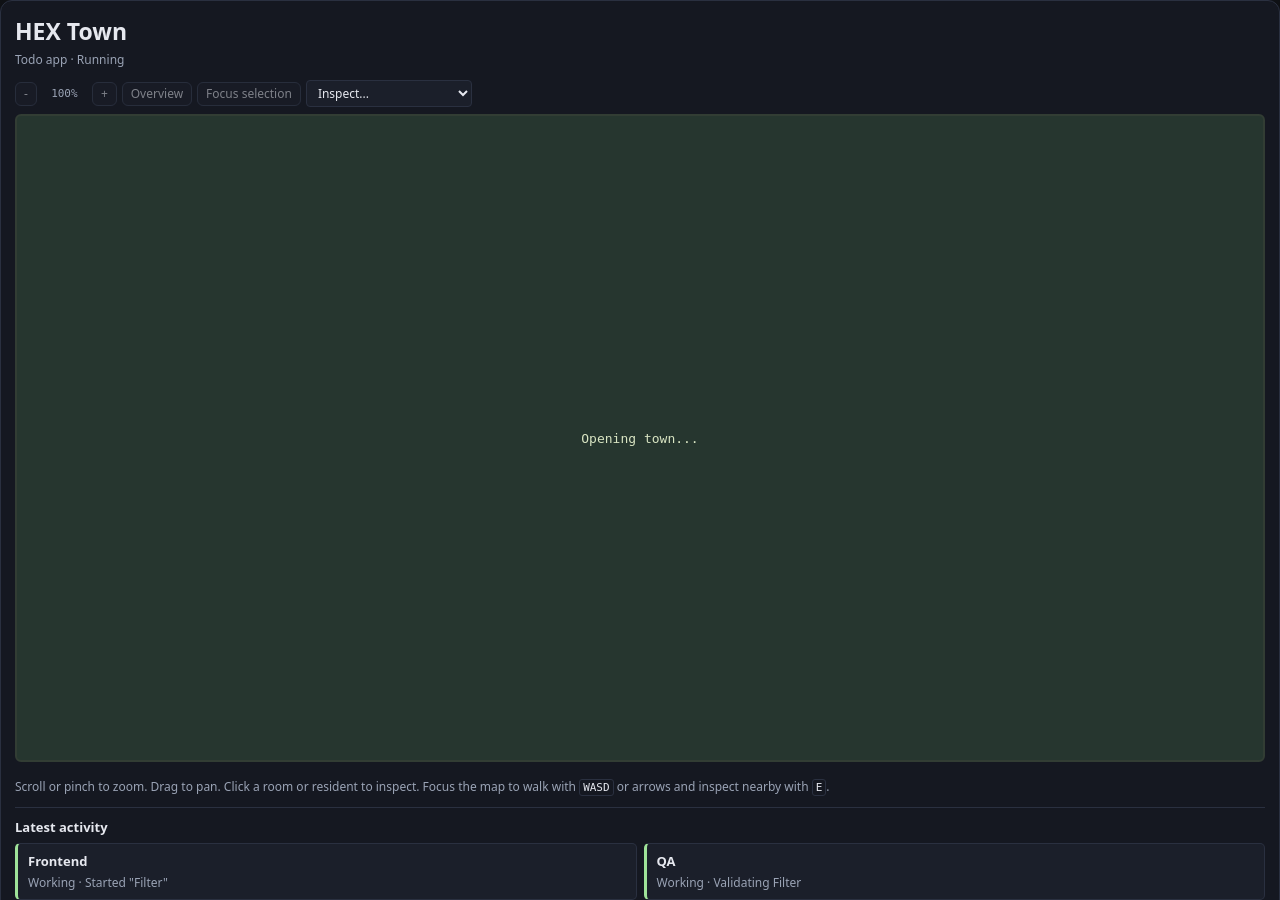
Test: Town › shows real agent activity and keeps overlapping sandbox checks on their station
Later steps or results of the test are not shown.
Expected: the text "Running test" is not shown
Select "Test Lab" in the dropdown named "Inspect a room or resident": (389, 94) [306,80,472,107]
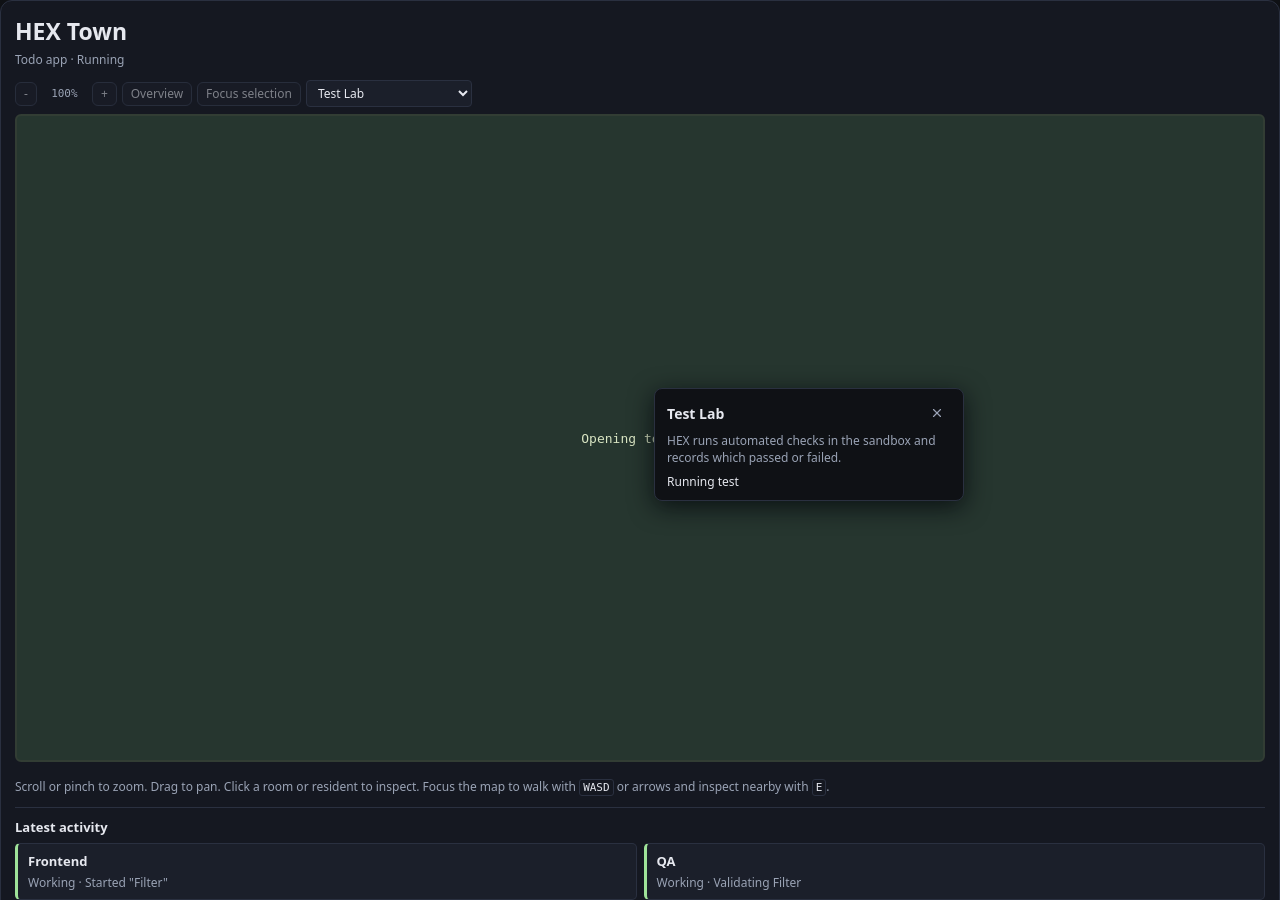
Now the text "automated checks in the sandbox" is shown, box [667,432,936,466]
Now the text "Running test" is shown, box [667,473,739,490]
Select "Review Office" in the dropdown named "Inspect a room or resident": (389, 94) [306,80,472,107]
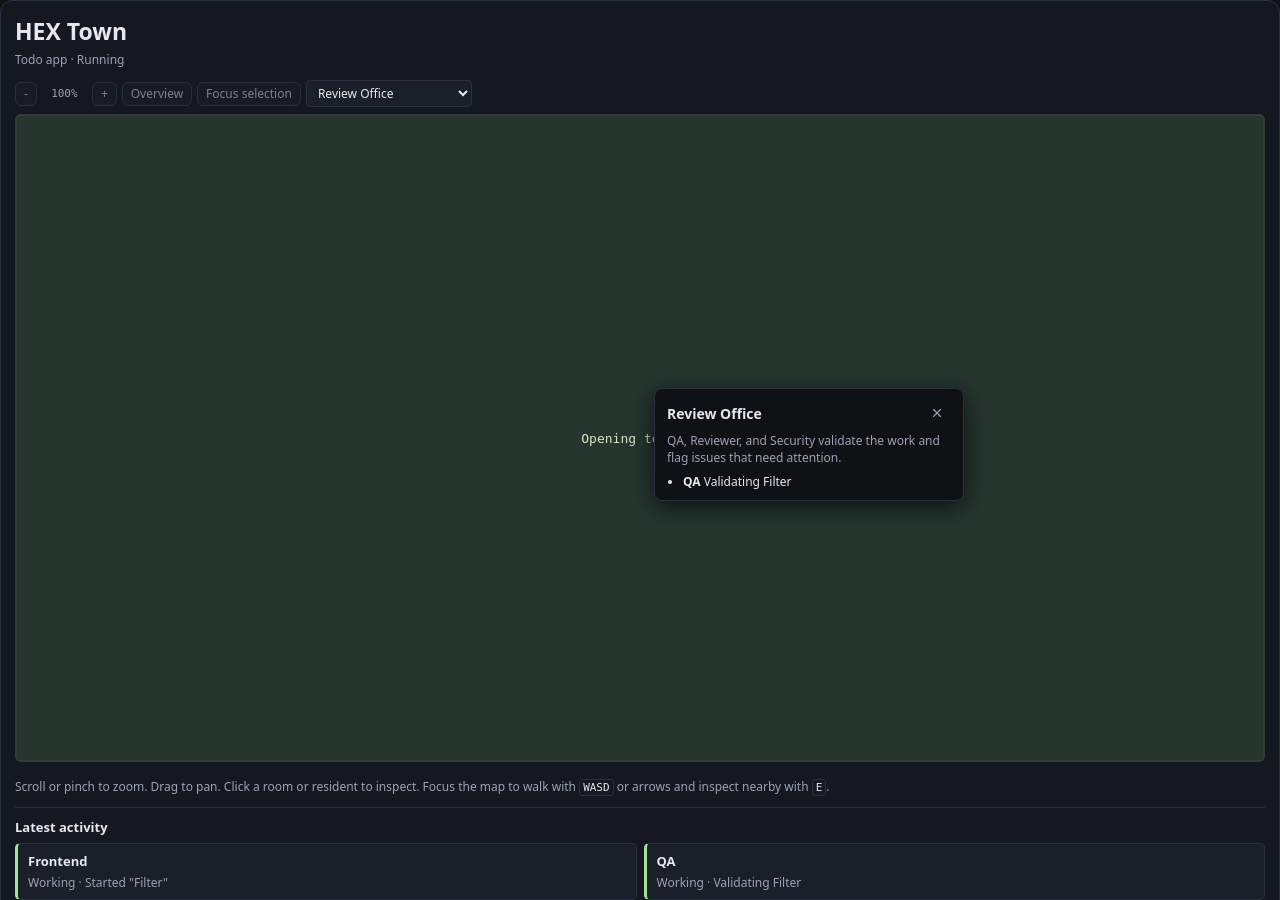
Now the list item "Validating Filter" is shown, box [704,473,792,490]
Now the text "Running test" is gone
Select "QA — Working" in the dropdown named "Inspect a room or resident": (389, 94) [306,80,472,107]
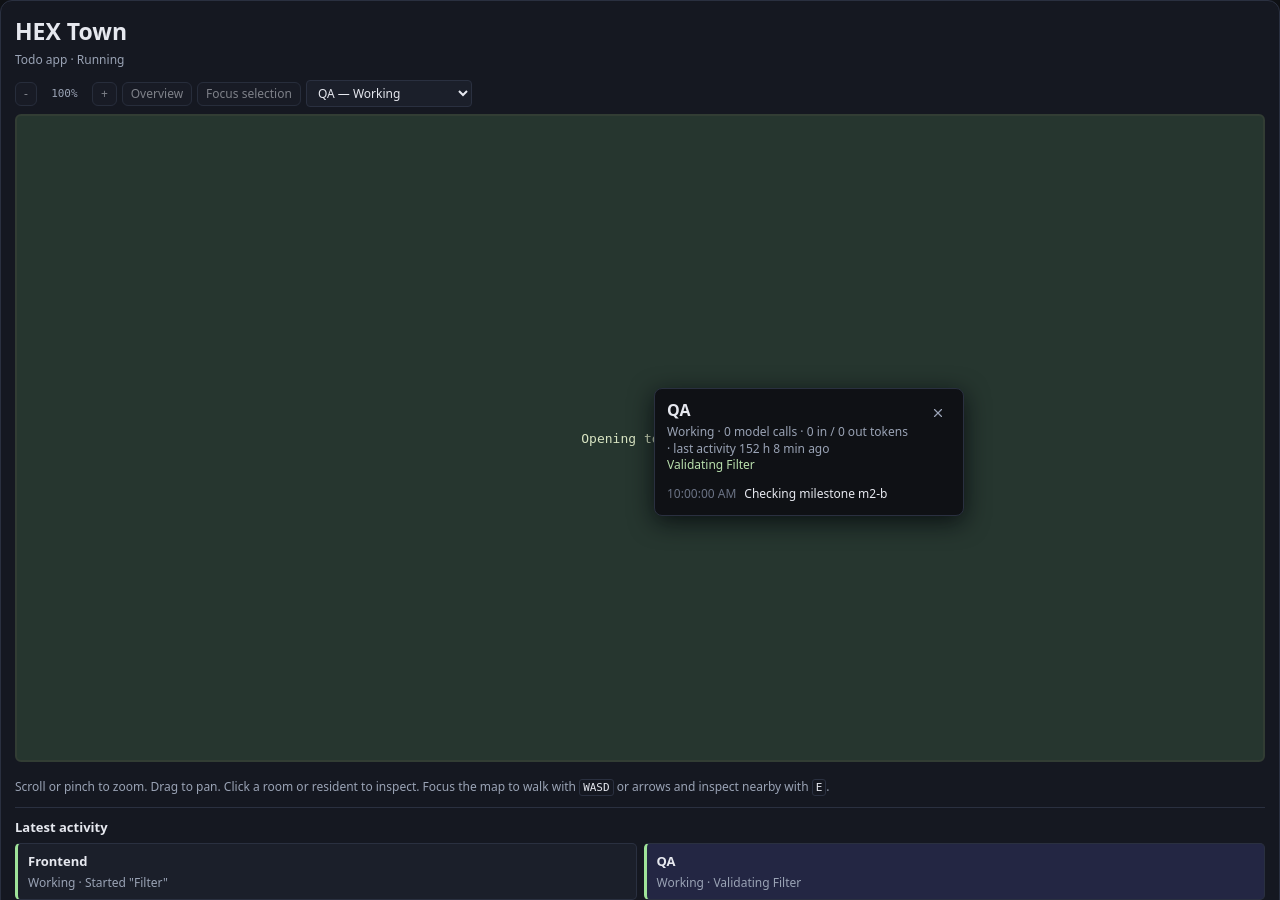
Expected: the text "sandbox" is not shown
Now the text "Checking milestone m2-b" is shown, box [744,485,887,502]
Select "Frontend — Working" in the dropdown named "Inspect a room or resident": (389, 94) [306,80,472,107]
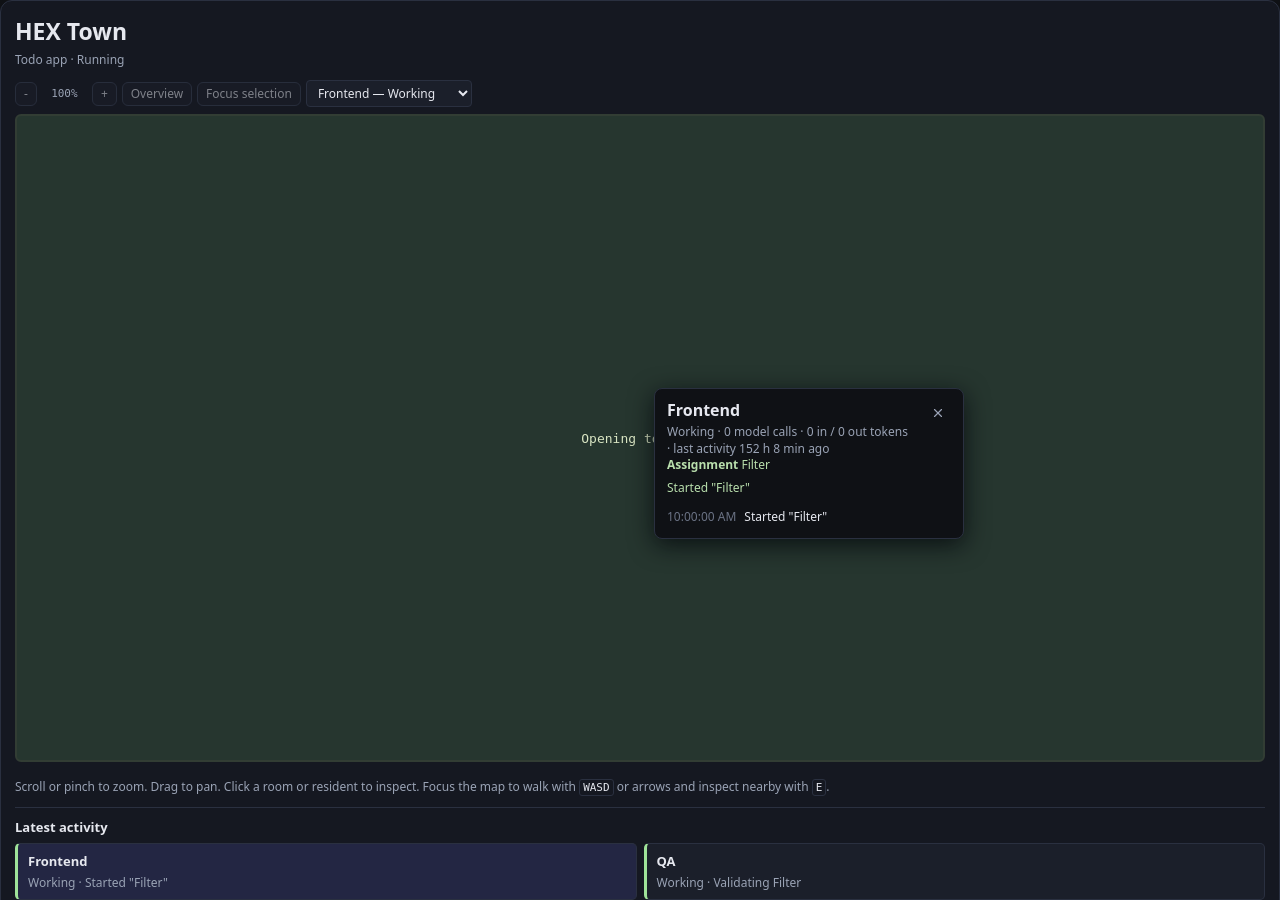
Now the dialog "Frontend" shows "Started \"Filter\"", box [667,479,750,496]
